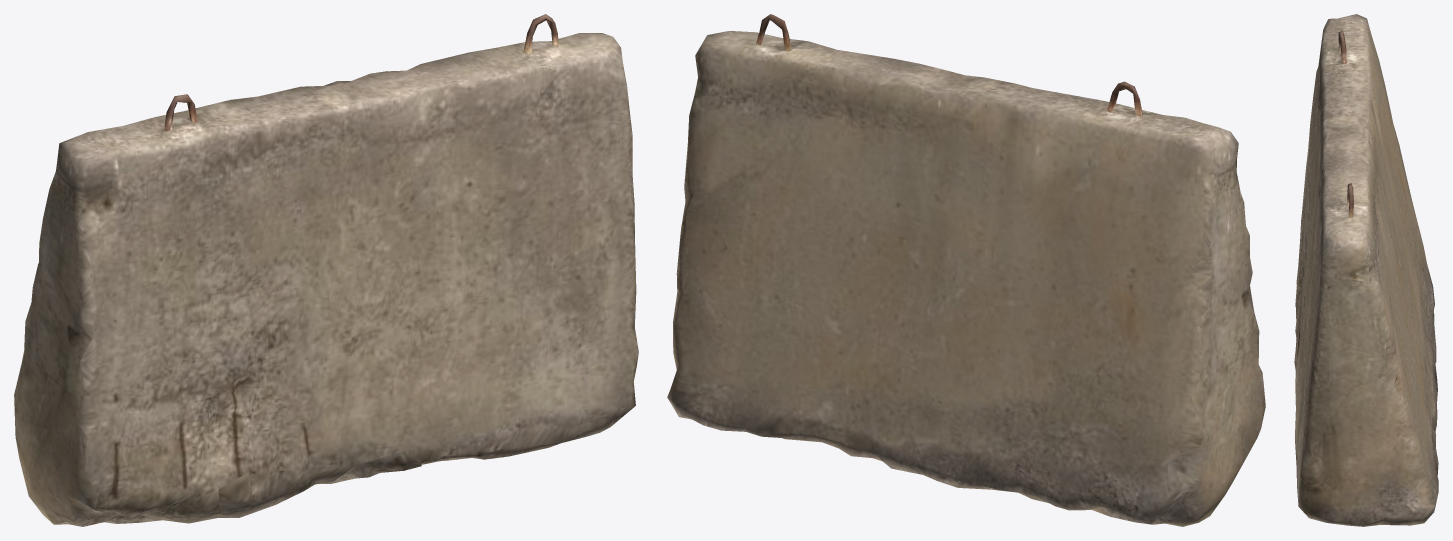
File: barrier_concrete.glb
The picture shows the model from 3 angles, left to right: view 1: azimuth 30°, elevation 25°; view 2: azimuth 150°, elevation 25°; view 3: azimuth 270°, elevation 25°; orthographic projection. The views are drawn at different scales.
Visible parts, largest first — view 1: barrier_concrete; view 2: barrier_concrete; view 3: barrier_concrete.
Part boxes in pixels (x1,y1,x2,y2): barrier_concrete: [14, 14, 638, 526]; barrier_concrete: [667, 14, 1265, 526]; barrier_concrete: [1294, 14, 1438, 526].
Size of the model in its own units: 1.56 by 1.11 by 0.4379.
1 material, 1 textured.
